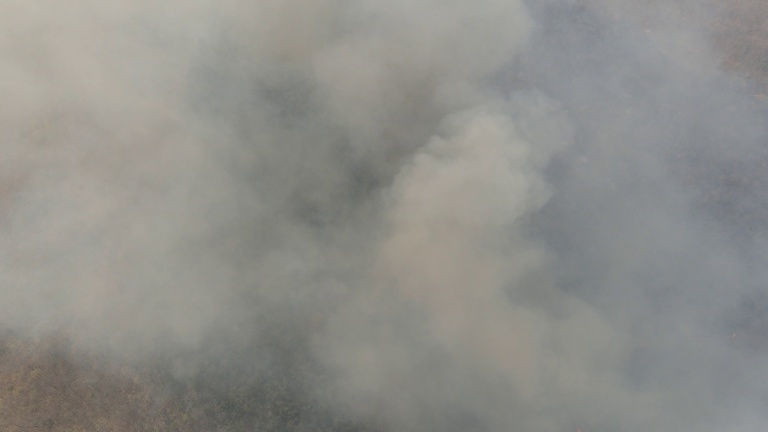smoke: (20, 1, 761, 407)
